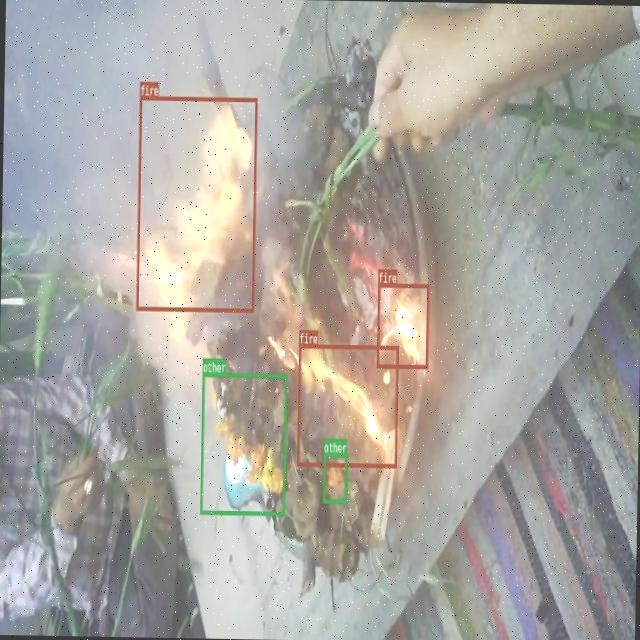fire: (135, 95, 257, 312), (296, 343, 398, 467), (376, 282, 428, 368)
